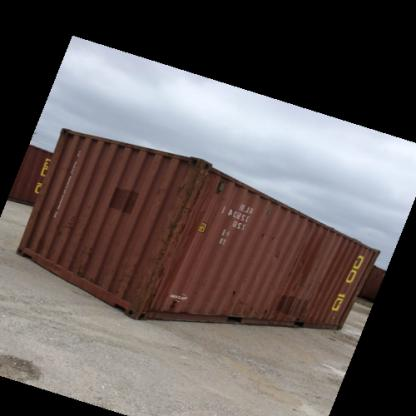Damage: (160, 164, 216, 252), (128, 259, 172, 313), (68, 234, 100, 278), (290, 246, 322, 288), (262, 296, 310, 320), (52, 207, 80, 232), (255, 224, 283, 240), (226, 283, 245, 298), (270, 243, 284, 263)
